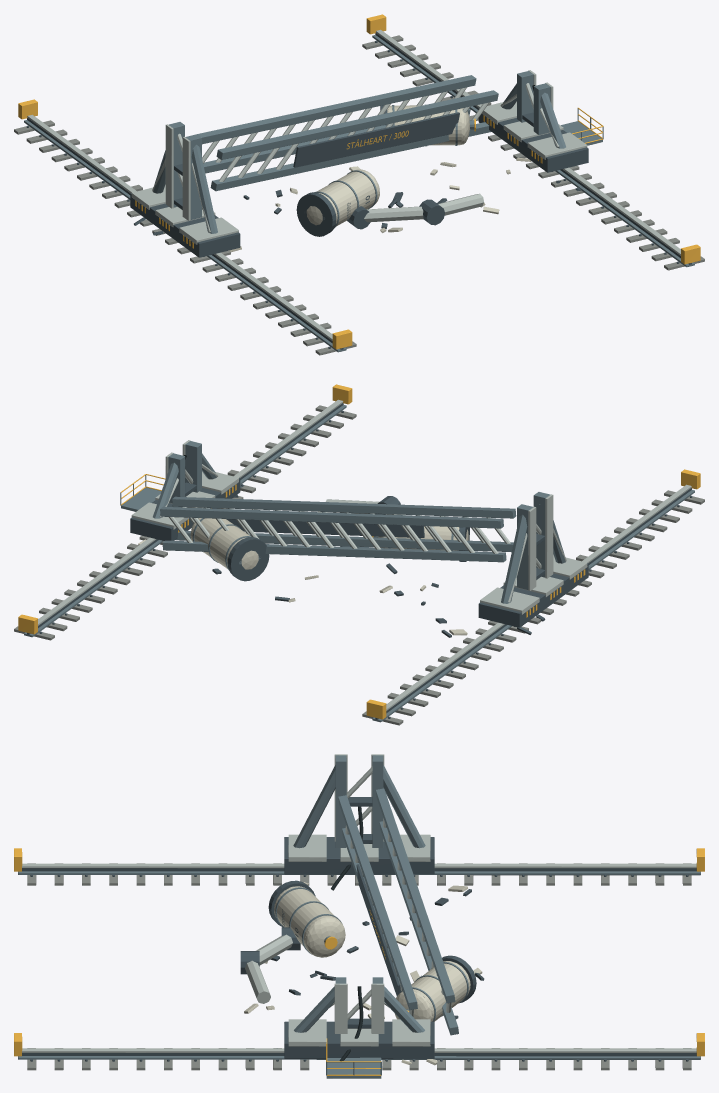
Rendered from terraformer_3000_d3_game.glb.
3 views of the same model, one above another, from view 1: azimuth 30°, elevation 25°; view 2: azimuth 150°, elevation 25°; view 3: azimuth 270°, elevation 25° (orthographic). The views are drawn at different scales.
Parts seen in each view (by area): view 1: Fallen bridge chord, Rail sleeper.150, Bogie armor.018, Flanged rail wheel.048, Fallen extrusion arm, Rail bogie chassis.006, Detached nameplate, Detached servo, Rail flange.006, Buckled bridge web, Dished pressure head.010, Rail stop.012 (+4 smaller); view 2: Fallen bridge chord, Rail sleeper.150, Bogie armor.018, Flanged rail wheel.048, Fallen extrusion arm, Rail bogie chassis.006, Buckled bridge web, Rail flange.006, Detached servo, Dished pressure head.012, Detached nameplate, Rail stop.012 (+2 smaller); view 3: Fallen extrusion arm, Bogie armor.018, Fallen bridge chord, Rail bogie chassis.006, Detached servo, Rail sleeper.150, Flanged rail wheel.048, Rail flange.006, Dished pressure head.010, Dished pressure head.012, Service balcony.009, Detached nameplate (+4 smaller).
Part boxes in pixels (x1,y1,x2,y2): Fallen bridge chord: (197,75,498,191); Rail sleeper.150: (14,35,704,355); Bogie armor.018: (131,70,587,244); Flanged rail wheel.048: (153,71,565,233); Fallen extrusion arm: (27,29,680,340); Rail bogie chassis.006: (130,108,588,257); Detached nameplate: (293,112,459,167); Detached servo: (26,33,691,349); Rail flange.006: (24,35,694,352); Buckled bridge web: (202,87,489,181); Dished pressure head.010: (306,169,379,225); Rail stop.012: (18,14,700,349); Fallen bridge chord: (160,496,516,562); Rail sleeper.150: (14,405,704,725); Bogie armor.018: (131,440,587,614); Flanged rail wheel.048: (153,441,565,603); Fallen extrusion arm: (38,399,691,710); Rail bogie chassis.006: (130,478,588,627); Buckled bridge web: (168,507,510,553); Rail flange.006: (24,405,694,722); Detached servo: (27,403,692,719); Dished pressure head.012: (190,518,258,569); Detached nameplate: (226,509,424,537); Rail stop.012: (18,384,700,719); Fallen extrusion arm: (22,863,696,1052); Bogie armor.018: (288,754,430,1046); Fallen bridge chord: (338,788,458,1035); Rail bogie chassis.006: (284,797,434,1058); Detached servo: (22,868,696,1061); Rail sleeper.150: (27,863,691,1070); Flanged rail wheel.048: (293,755,425,1032); Rail flange.006: (18,871,700,1059); Dished pressure head.010: (274,886,345,957); Dished pressure head.012: (394,961,470,1021); Service balcony.009: (326,1057,381,1078); Detached nameplate: (356,864,400,995).
Bounding box in the file's own units: 39.28 × 9.55 × 50.6.
